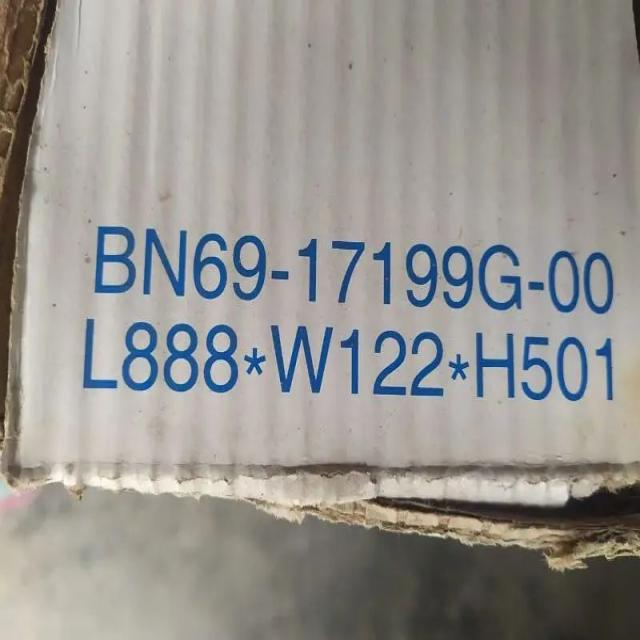electronic: (1, 0, 638, 509)
